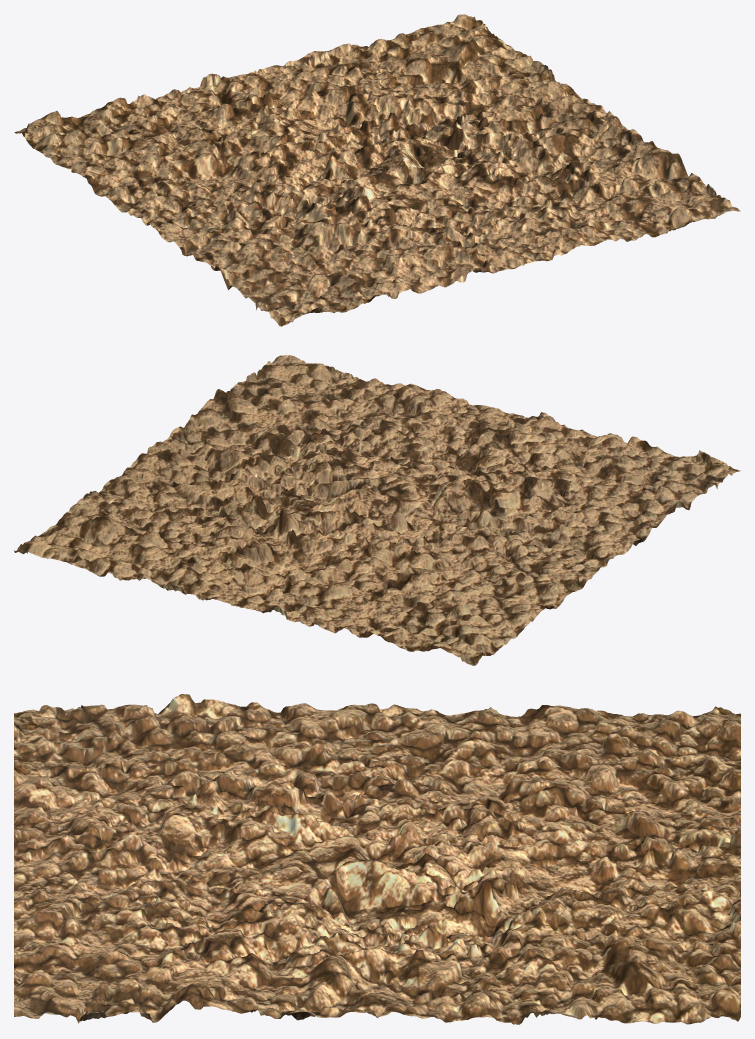
Rendered from 暖红砂样块.glb.
3 views of the same model, one above another, from view 1: azimuth 30°, elevation 25°; view 2: azimuth 150°, elevation 25°; view 3: azimuth 270°, elevation 25° (orthographic). The views are drawn at different scales.
Parts seen in each view (by area): view 1: Rocknest 58 / 32.768 mm; view 2: Rocknest 58 / 32.768 mm; view 3: Rocknest 58 / 32.768 mm.
Boxes of the visible parts, bbox=[...] form: Rocknest 58 / 32.768 mm: bbox=[14, 14, 740, 326]; Rocknest 58 / 32.768 mm: bbox=[14, 355, 740, 665]; Rocknest 58 / 32.768 mm: bbox=[14, 694, 740, 1024].
Size of the model in its own units: 0.0327 by 0.00217 by 0.0327.
1 material, 1 textured.
